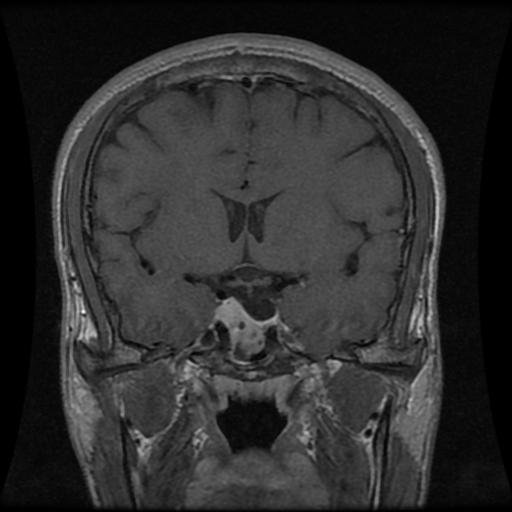Pituirity_tumour: (217, 297, 264, 355)
